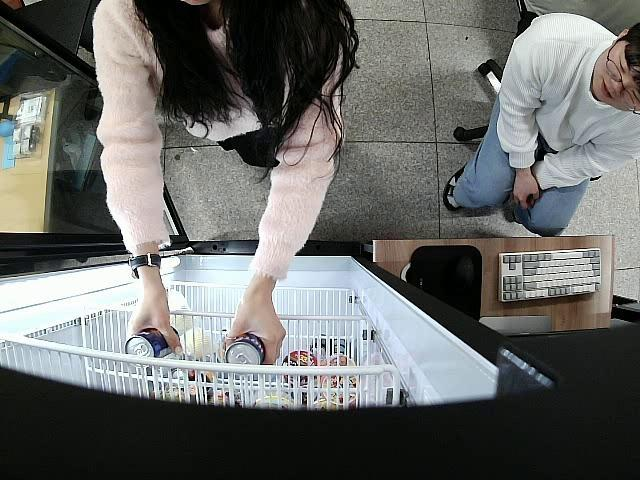16_hot6: (126, 326, 179, 357), (225, 334, 266, 363)
